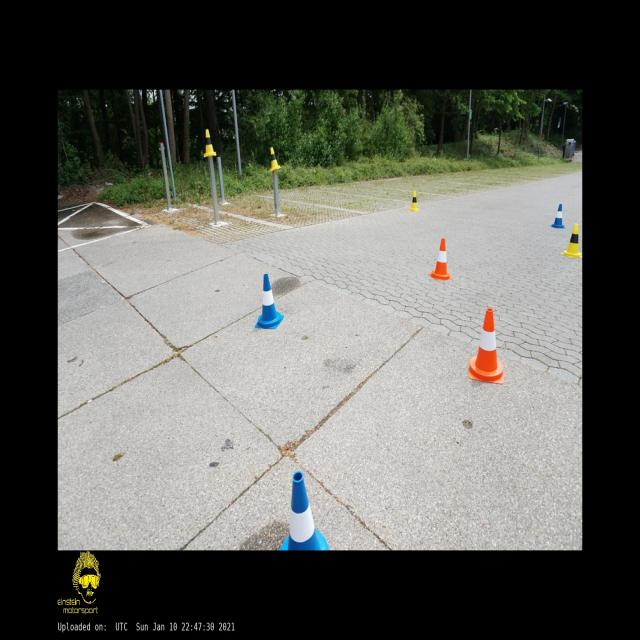blue_cone: (279, 473, 329, 550), (255, 274, 284, 329), (552, 204, 564, 228)
orange_cone: (469, 308, 503, 384), (429, 238, 450, 280)
yellow_cone: (562, 224, 582, 257), (204, 129, 216, 157), (269, 147, 281, 172), (409, 191, 418, 211)
